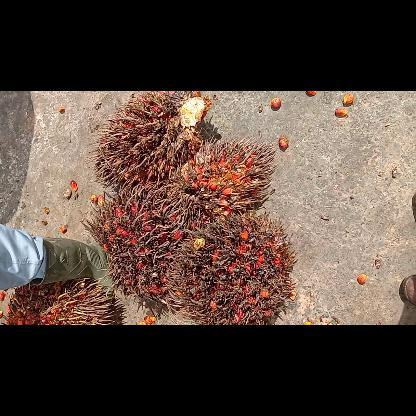Terlalu masak: (84, 178, 212, 312), (164, 207, 298, 324), (82, 91, 216, 195), (162, 129, 280, 226)
